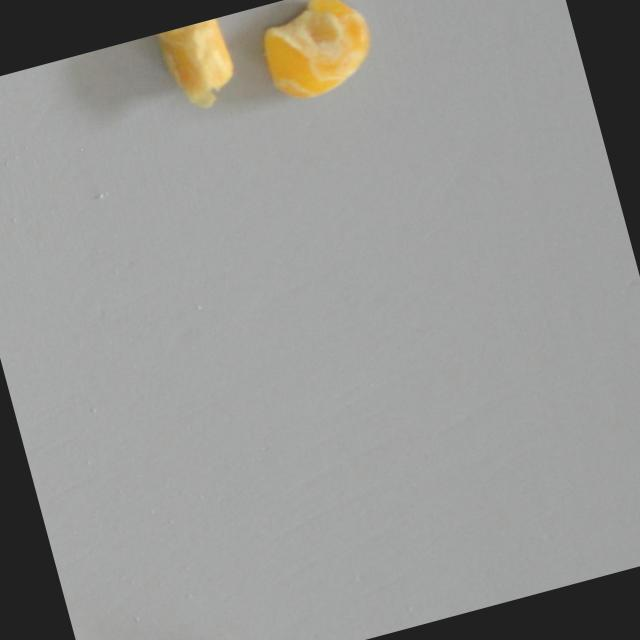dañado: (244, 0, 387, 112), (146, 16, 242, 123)
